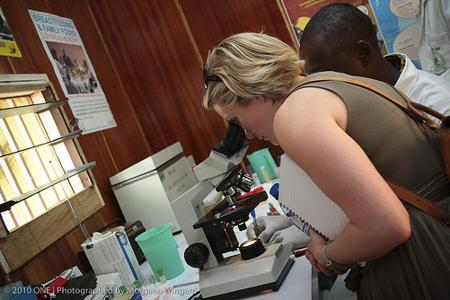person: (204, 32, 450, 300)
